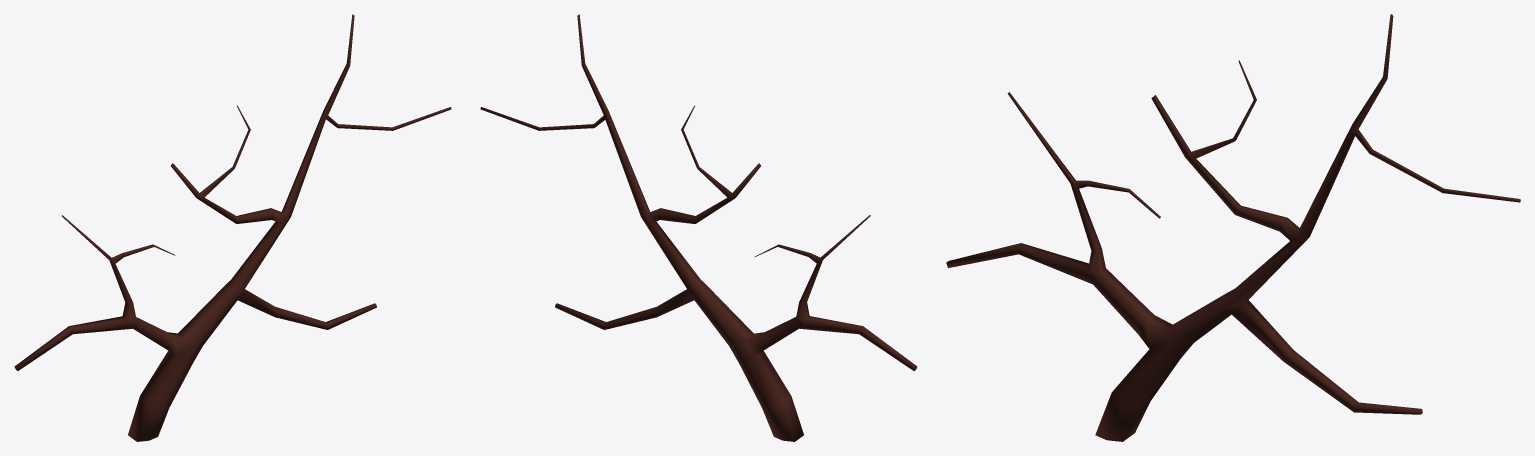
The model's file is roots_1.fbx.
The picture shows the model from 3 angles, left to right: view 1: azimuth 30°, elevation 25°; view 2: azimuth 150°, elevation 25°; view 3: azimuth 330°, elevation 25°; orthographic projection. The views are drawn at different scales.
Visible parts, largest first — view 1: roots_1; view 2: roots_1; view 3: roots_1.
Part boxes in pixels (box(x1,y1,x2,y2)): roots_1: box(14, 14, 451, 441); roots_1: box(480, 14, 917, 441); roots_1: box(946, 14, 1520, 441).
Size of the model in its own units: 234 by 190 by 12.65.
